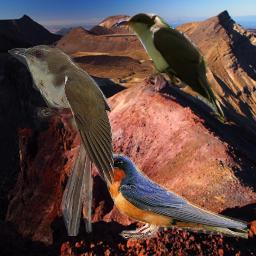Cuckoo: (8, 44, 114, 236), (114, 13, 224, 123)
Swallow: (95, 151, 248, 244)
